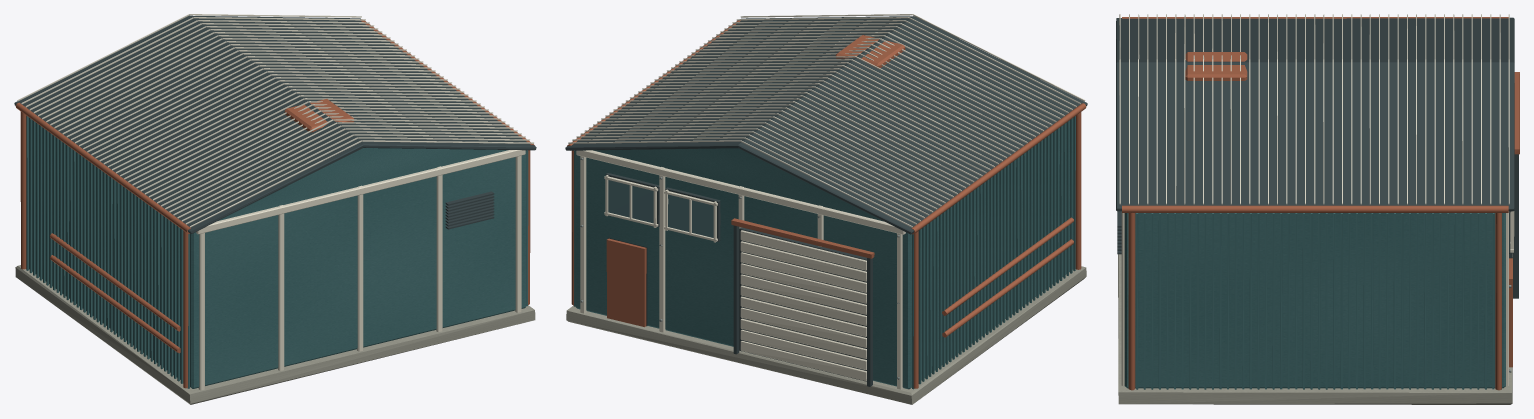
3 views of the same model, side by side, from view 1: azimuth 30°, elevation 25°; view 2: azimuth 150°, elevation 25°; view 3: azimuth 270°, elevation 25° (orthographic). The views are drawn at different scales.
Parts seen in each view (by area): view 1: static_assembly_steel_001, static_assembly_dark_001, static_assembly_ivory_001, static_assembly_concrete_001, static_assembly_rust_001; view 2: static_assembly_steel_001, static_assembly_dark_001, static_assembly_ivory_001, loading_door_panels, static_assembly_rust_001, static_assembly_concrete_001, pedestrian_door_leaf, static_assembly_glass_001; view 3: static_assembly_dark_001, static_assembly_steel_001, static_assembly_ivory_001, static_assembly_rust_001, static_assembly_concrete_001, pedestrian_door_leaf.
Part boxes in pixels (box(x1,y1,x2,y2)): static_assembly_steel_001: box(26, 115, 528, 388); static_assembly_dark_001: box(14, 15, 536, 233); static_assembly_ivory_001: box(17, 14, 533, 390); static_assembly_concrete_001: box(15, 265, 535, 404); static_assembly_rust_001: box(15, 20, 534, 388); static_assembly_steel_001: box(574, 116, 1075, 389); static_assembly_dark_001: box(565, 16, 1087, 386); static_assembly_ivory_001: box(568, 14, 1085, 389); loading_door_panels: box(740, 230, 866, 381); static_assembly_rust_001: box(567, 20, 1086, 388); static_assembly_concrete_001: box(566, 266, 1086, 404); pedestrian_door_leaf: box(606, 238, 646, 327); static_assembly_glass_001: box(608, 180, 713, 237); static_assembly_dark_001: box(1116, 17, 1518, 298); static_assembly_steel_001: box(1124, 213, 1505, 389); static_assembly_ivory_001: box(1119, 14, 1514, 386); static_assembly_rust_001: box(1122, 17, 1519, 390); static_assembly_concrete_001: box(1118, 254, 1512, 404); pedestrian_door_leaf: box(1509, 258, 1512, 367).
Bounding box in the file's own units: 9 × 5.5 × 8.
7 materials, 2 textured.
